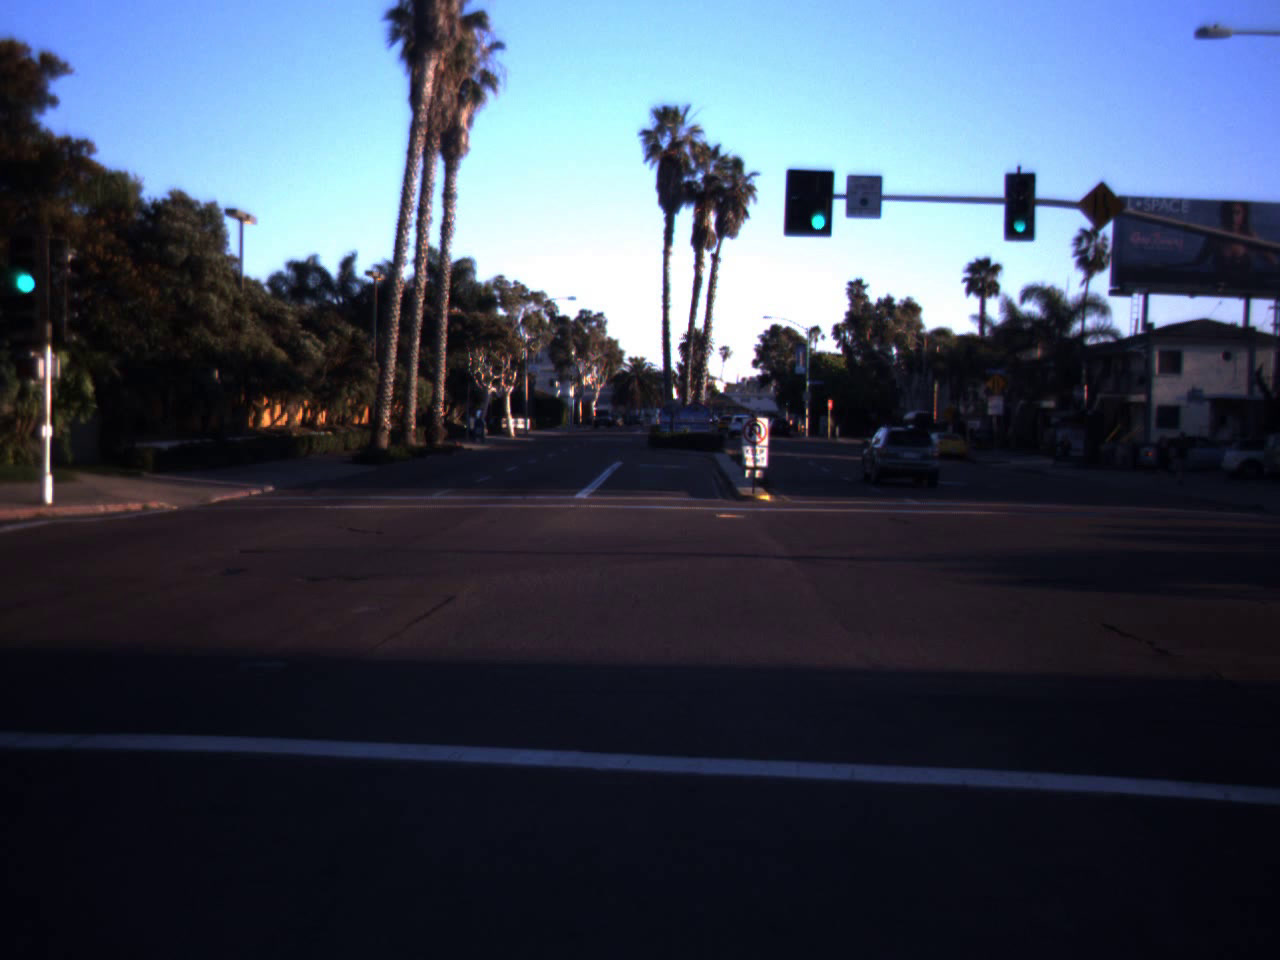go: (2, 215, 50, 301), (800, 170, 836, 235), (1010, 204, 1031, 234)
